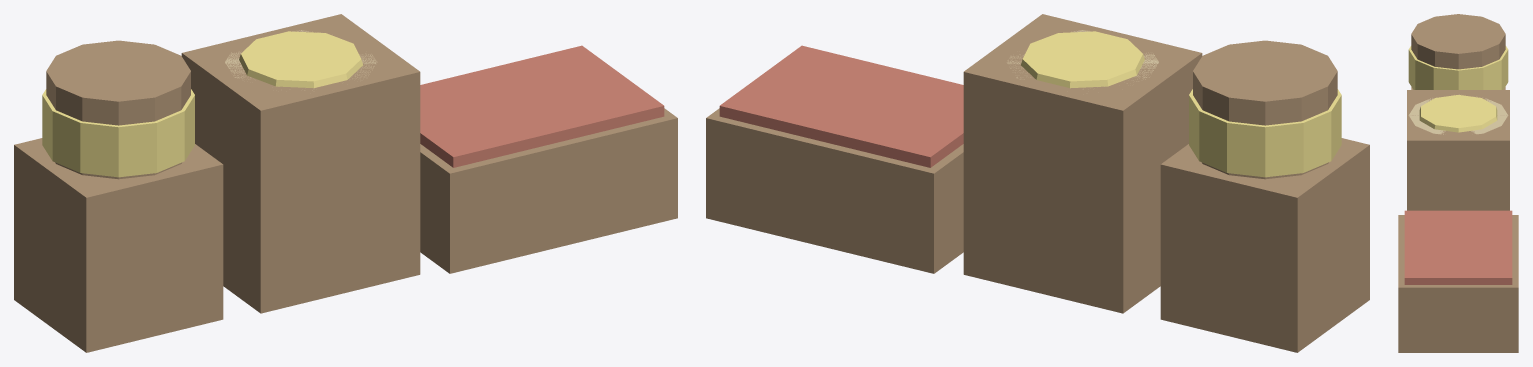
The model's file is prop_28_ta_nung_silk_reeling_wheel_bamboo_cocoon_trays_and_coffee_drying_rack_kit.glb.
3 renders of one model, left to right at view 1: azimuth 30°, elevation 25°; view 2: azimuth 150°, elevation 25°; view 3: azimuth 270°, elevation 25°, orthographic. The views are drawn at different scales.
Visible parts, largest first — view 1: prop_28_ta_nung_silk_reeling_wheel_bamboo_cocoon_trays_and_c; view 2: prop_28_ta_nung_silk_reeling_wheel_bamboo_cocoon_trays_and_c; view 3: prop_28_ta_nung_silk_reeling_wheel_bamboo_cocoon_trays_and_c.
Part boxes in pixels (x1=…): prop_28_ta_nung_silk_reeling_wheel_bamboo_cocoon_trays_and_c: x1=14, y1=14, x2=677, y2=352; prop_28_ta_nung_silk_reeling_wheel_bamboo_cocoon_trays_and_c: x1=706, y1=14, x2=1369, y2=352; prop_28_ta_nung_silk_reeling_wheel_bamboo_cocoon_trays_and_c: x1=1398, y1=14, x2=1518, y2=352.
Bounding box in the file's own units: 5.1 × 2 × 1.4.
